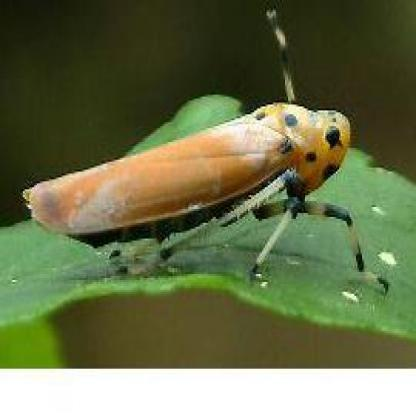Green-Leafhopper: (21, 96, 392, 306)
